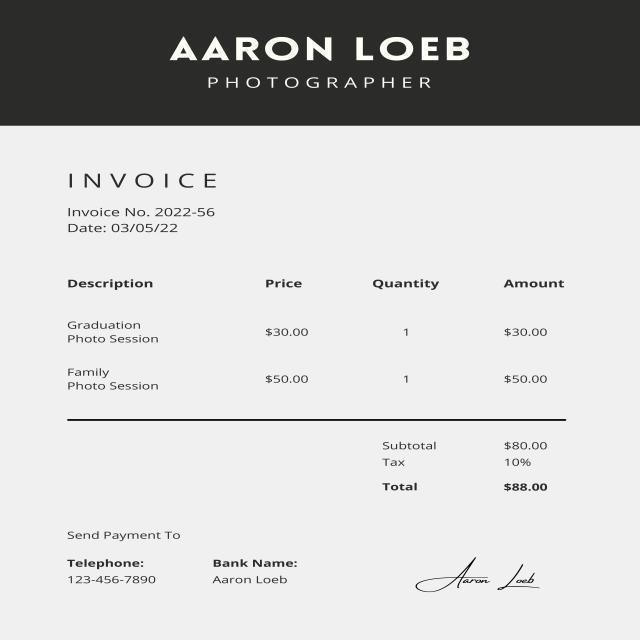paragraph: (158, 23, 481, 95), (62, 524, 303, 593), (377, 431, 558, 501), (58, 167, 226, 237), (411, 550, 548, 596)
table: (60, 271, 573, 401)
